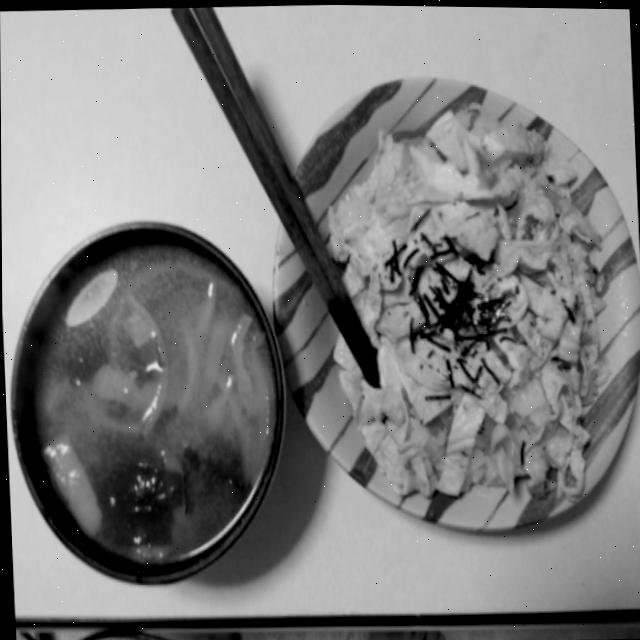寿司卷物: (248, 52, 640, 543)
汤锅炖物: (1, 206, 295, 587)
